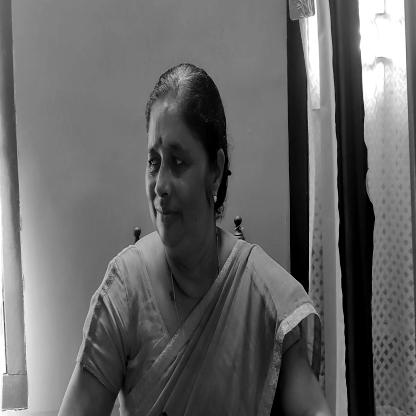Distracted: (149, 65, 222, 249)
